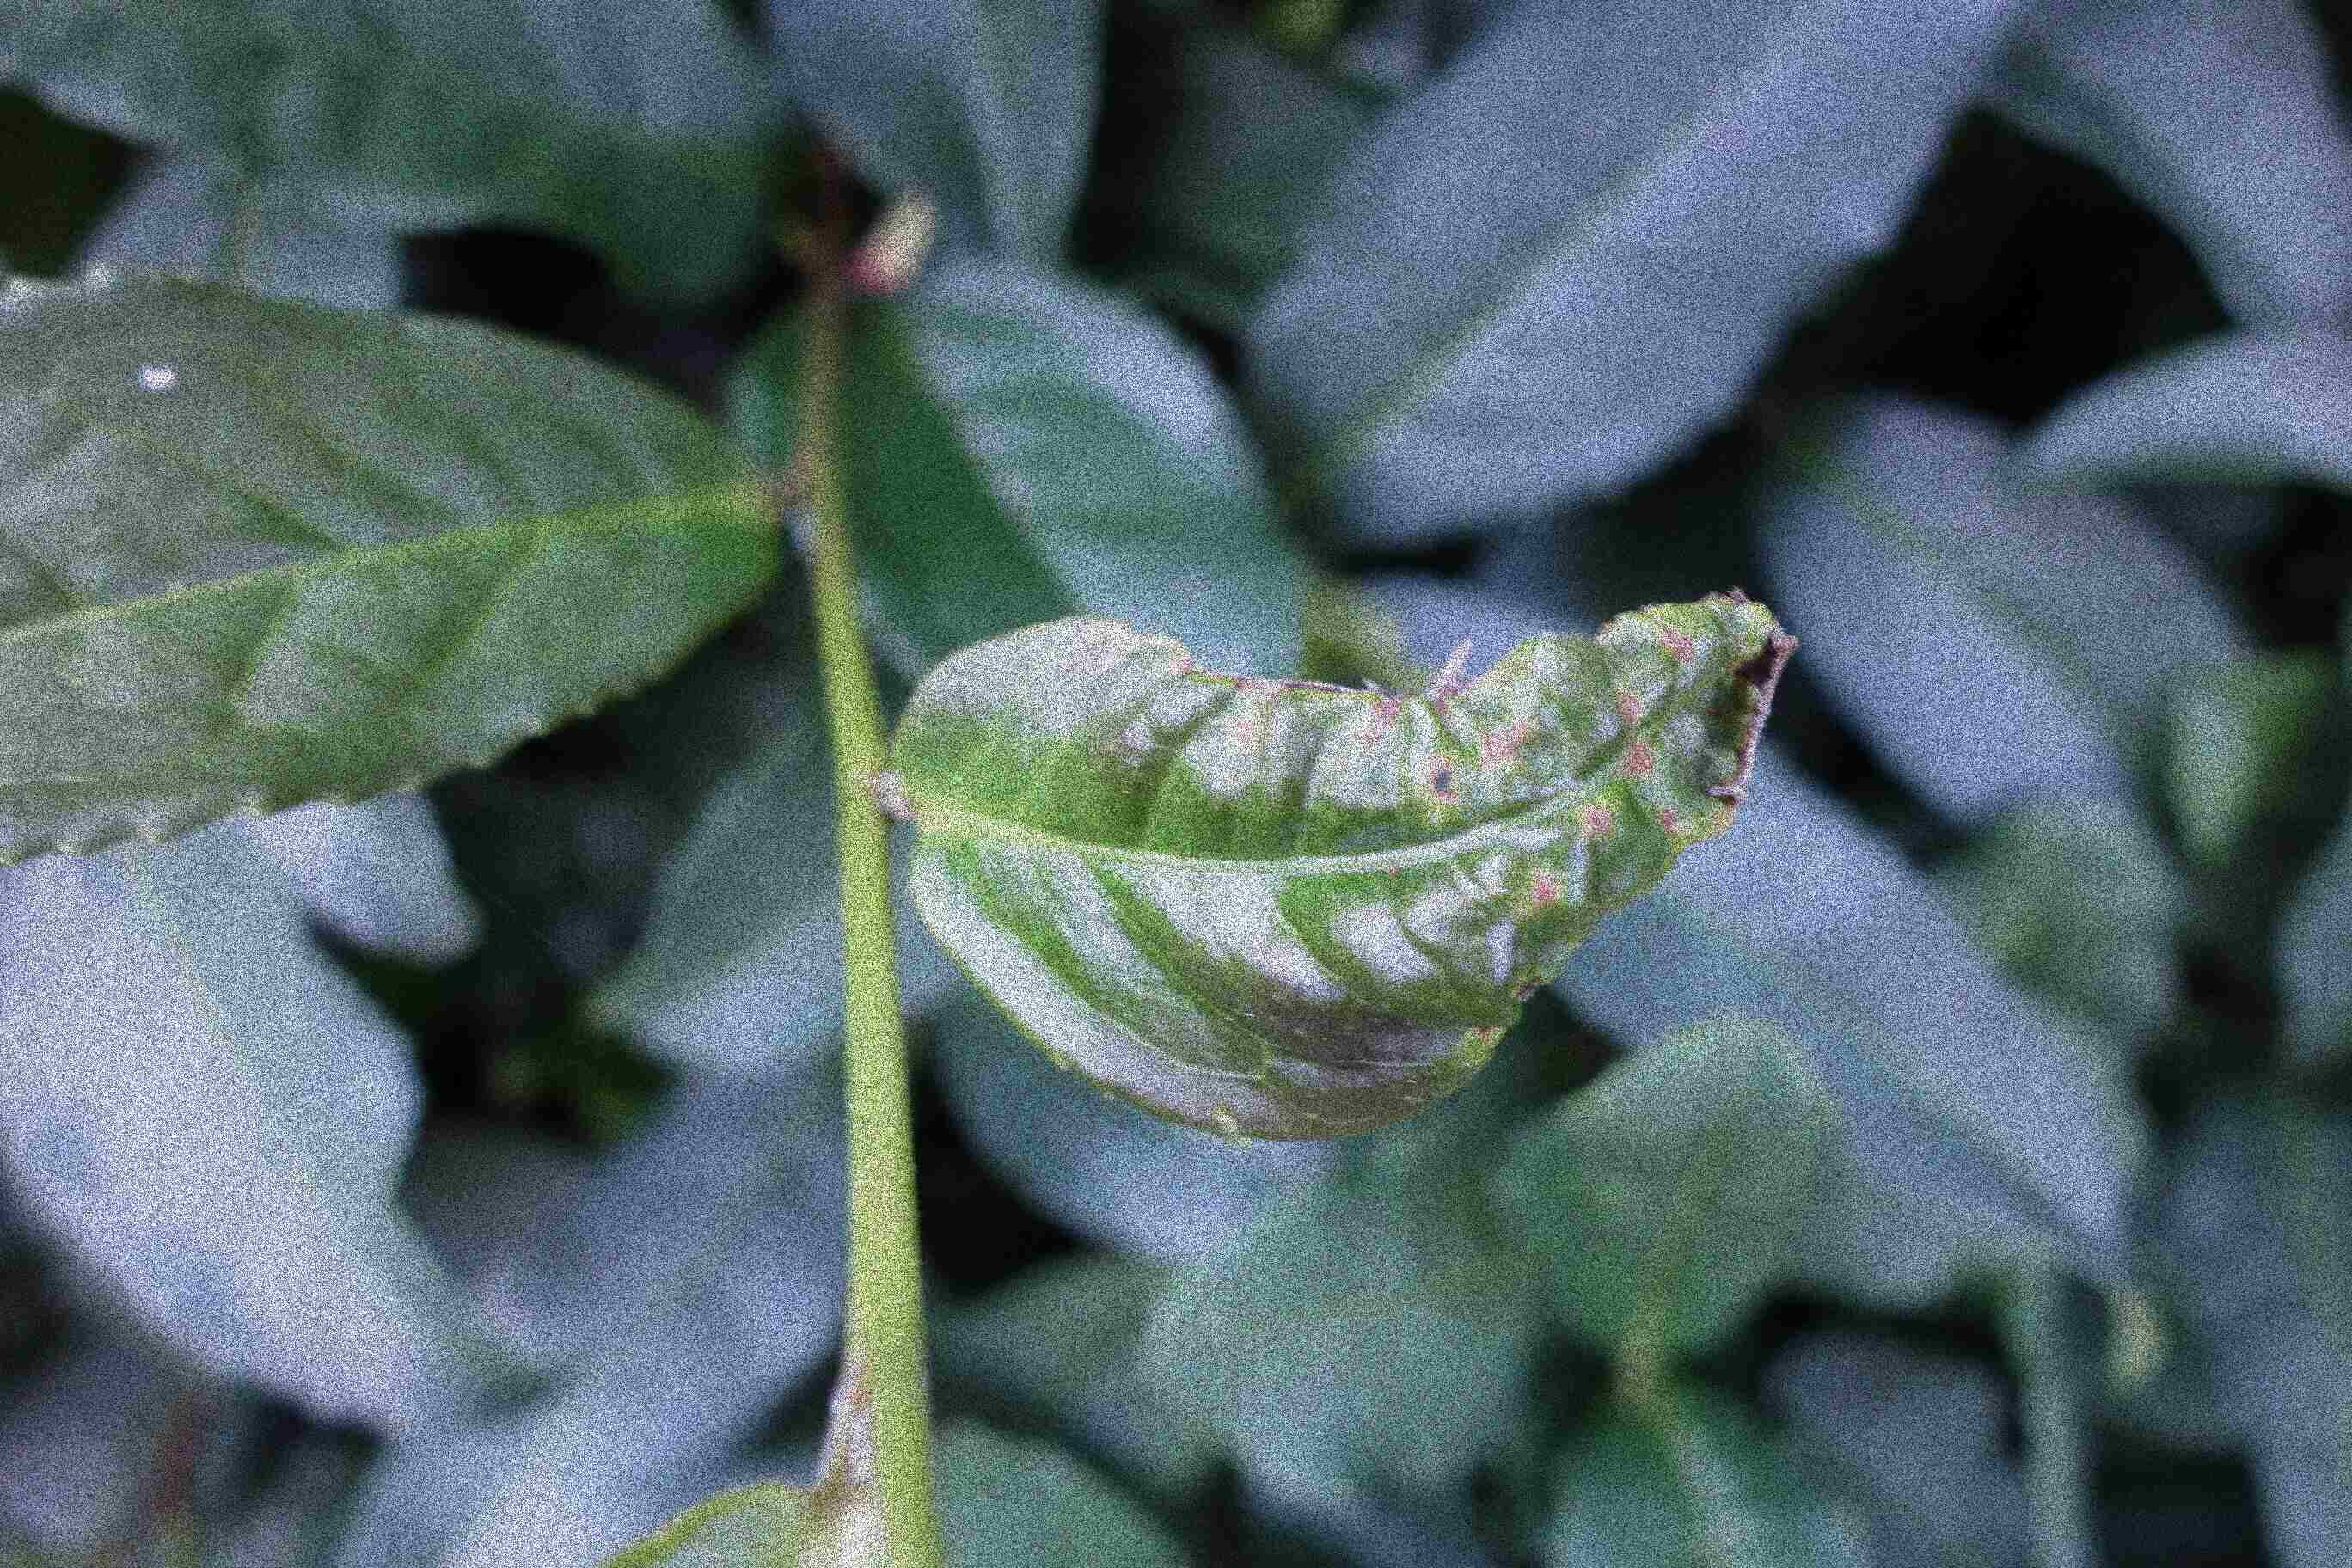chihuo_high: (878, 583, 1799, 1146)
